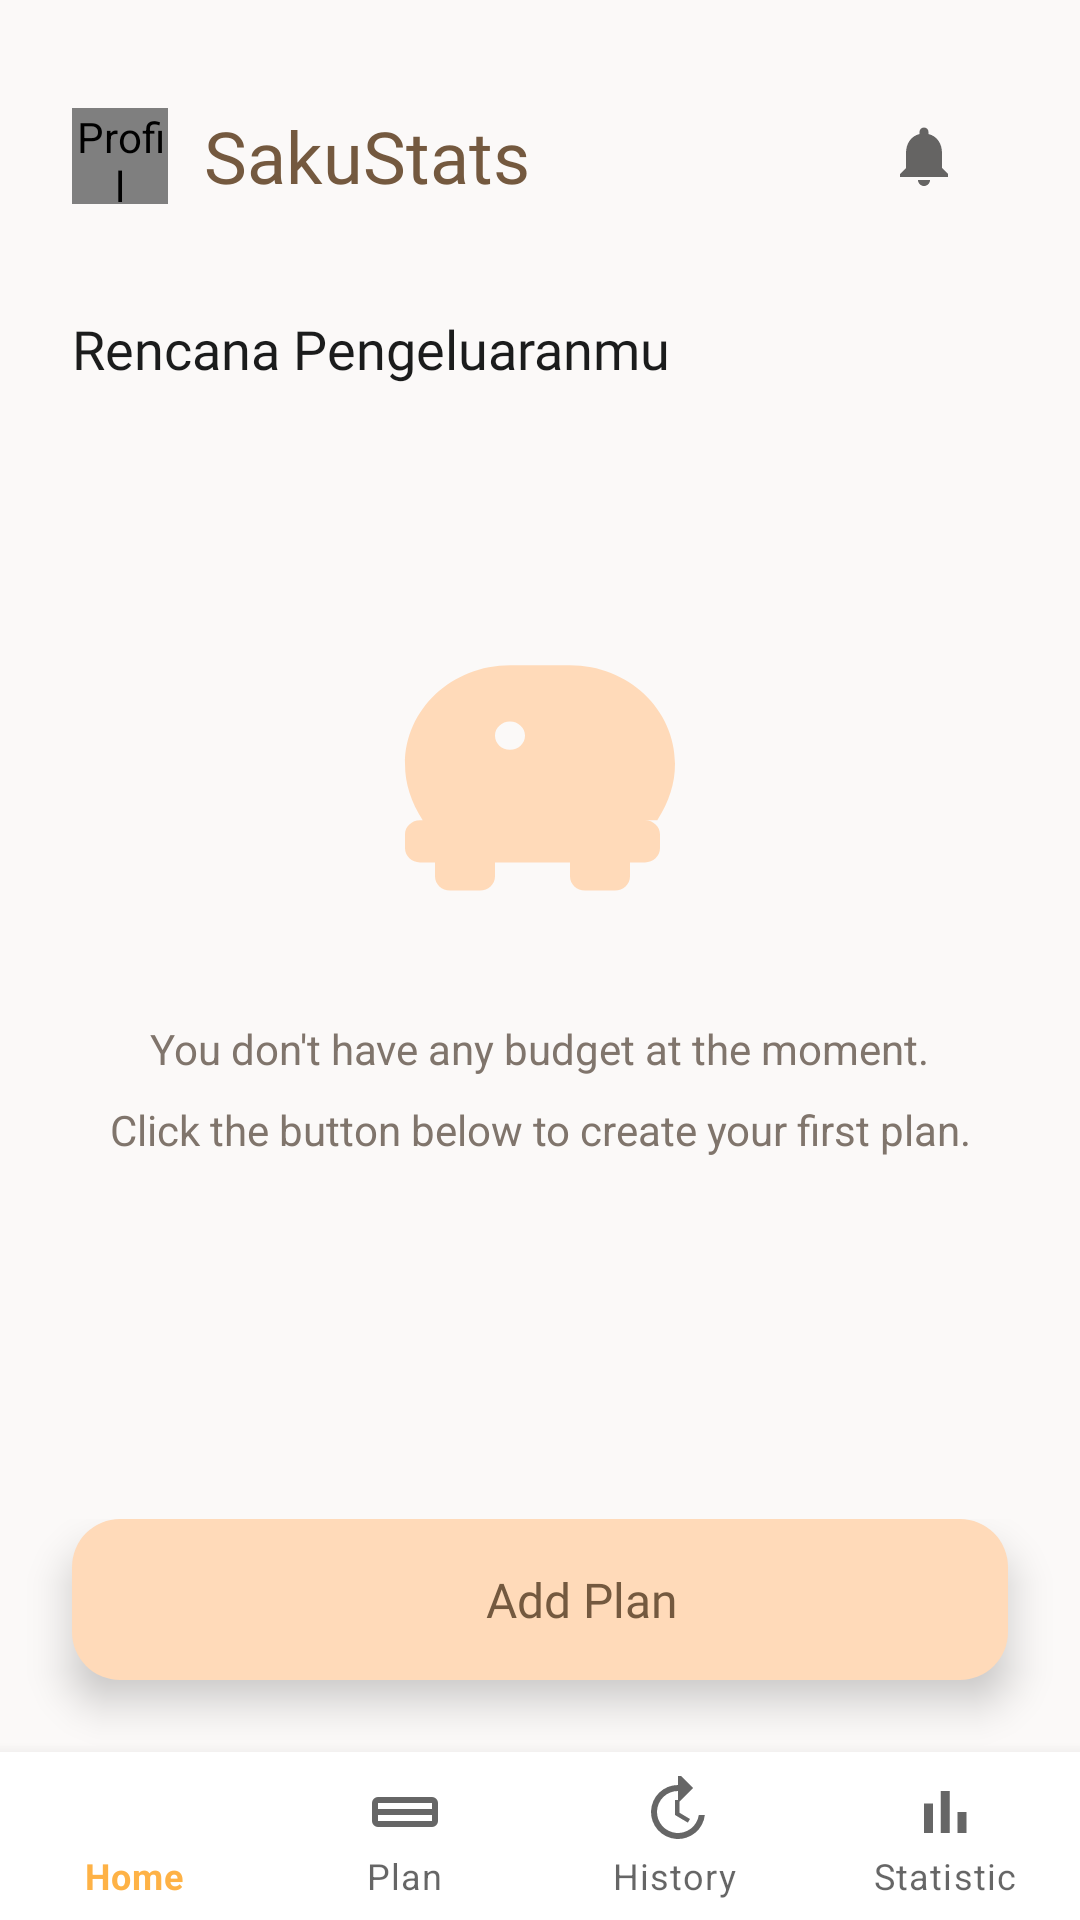

Named icons in this screenshot (1080x1920) and their centers, (x=x, y=y):
Notifikasi: (x=924, y=156)
piggy: (x=540, y=778)
